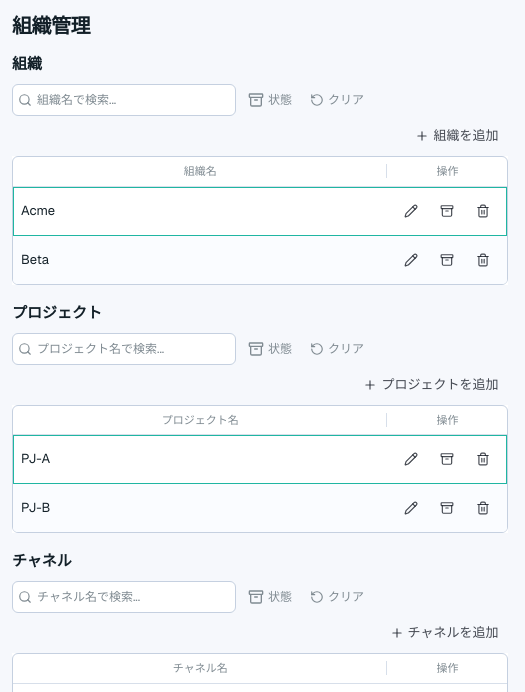
Test: OrganizationsScreen 3 ペイン（set-0162） › 組織切替直後に PJ 取得が失敗したら旧一覧が残らない（fetch 失敗時クリア・criteria 1）
The image size is (525, 692).
Expected: the text "PJ-A" is shown, [13,435,387,484]
Click the text "Beta": (35, 259) [21,251,49,268]
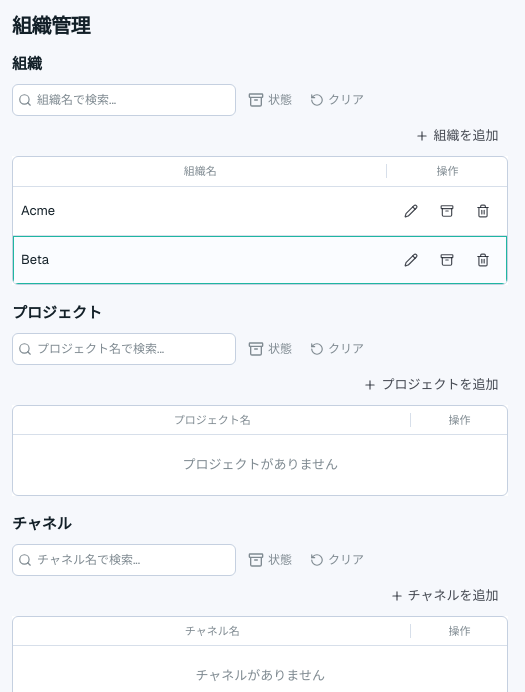
Expected: the text "PJ-A" is gone
